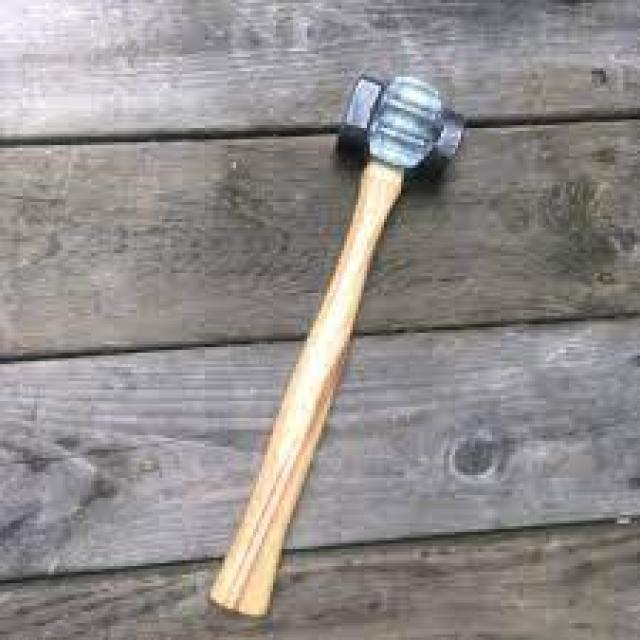hammer: (199, 61, 472, 622)
